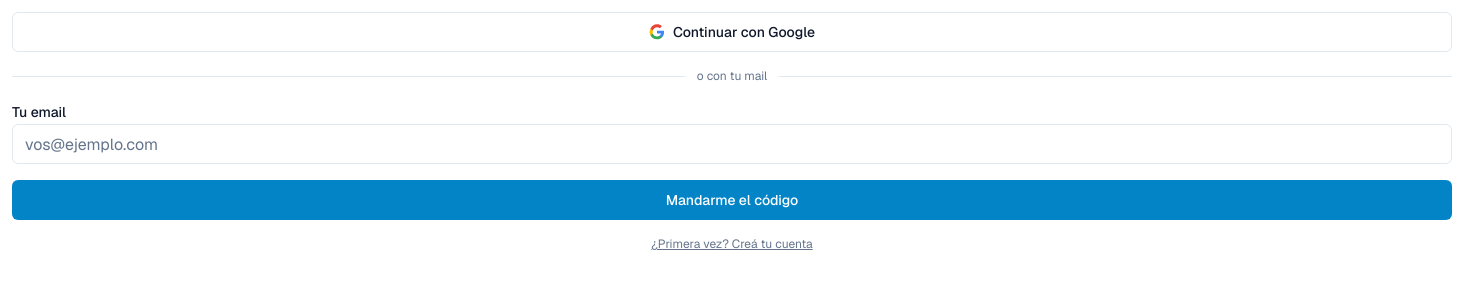
it: LoginForm › error de supabase al enviar → muestra errorGeneric sin avanzar
Type "test@example.com" into the field labelled "Tu email" at {"x": 732, "y": 144}, box [12, 124, 1452, 164]
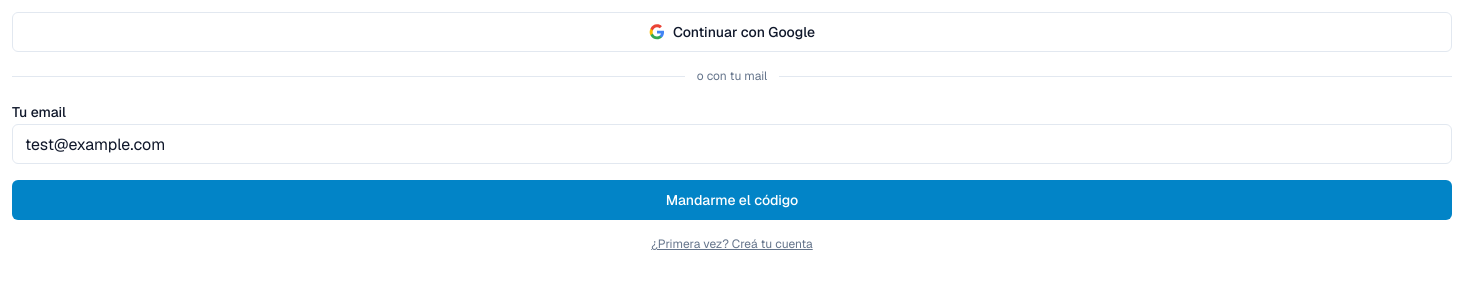
Submit the form "Mandarme el código", box [12, 100, 1452, 220]
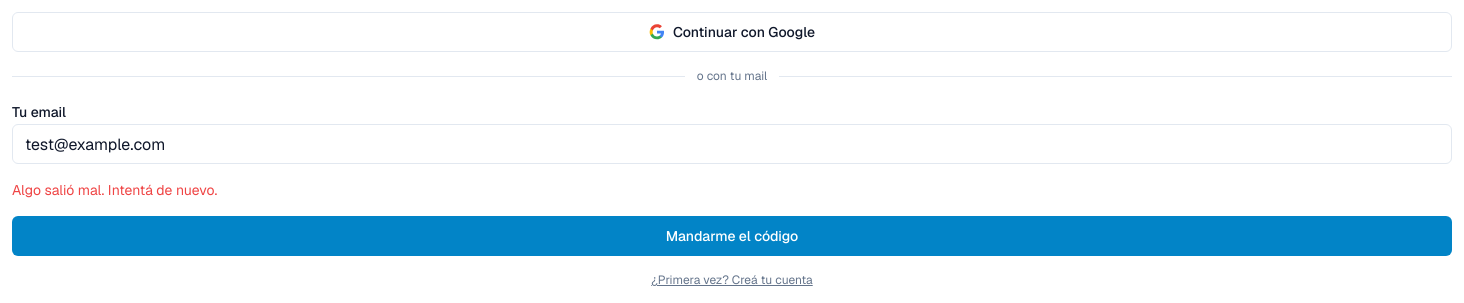
Now the text "Algo salió mal. Intentá de nuevo." is shown, box [12, 181, 217, 199]
